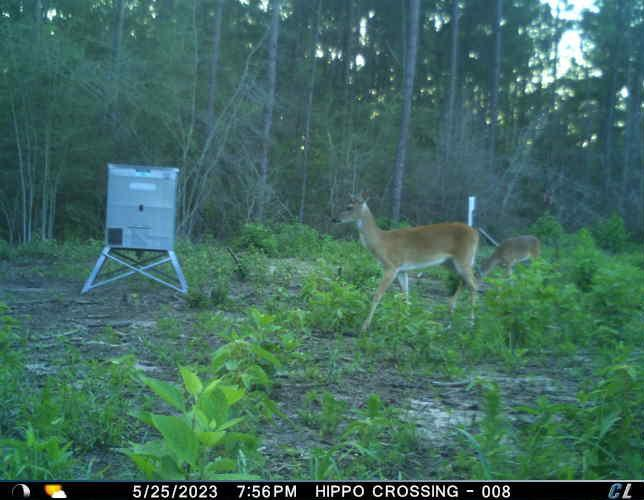Deer: (331, 186, 481, 336), (474, 232, 547, 284)
